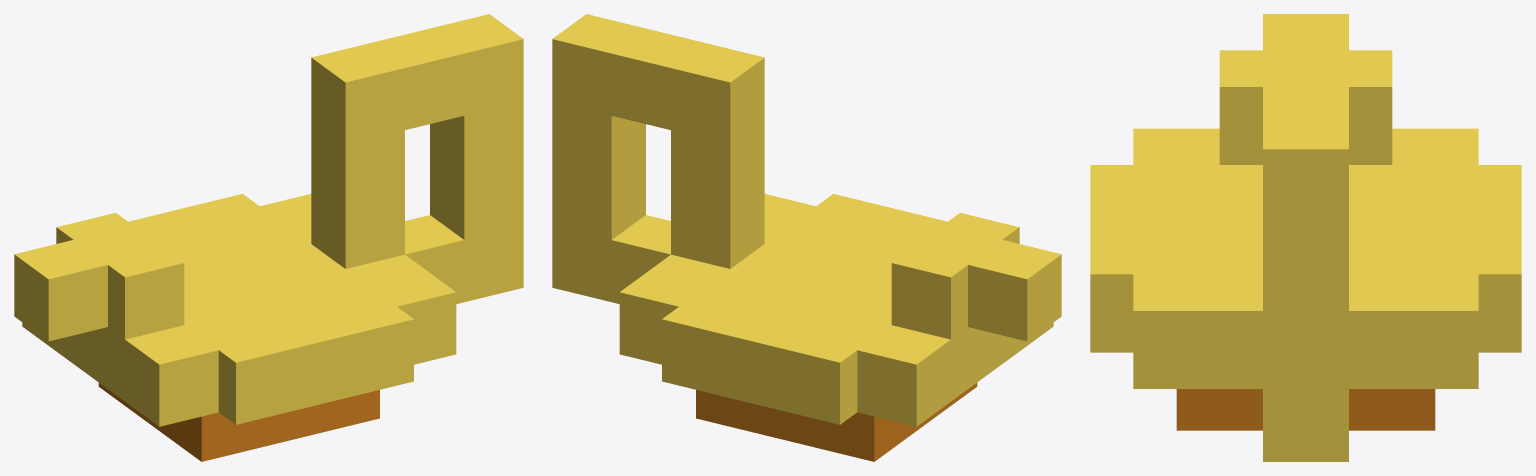
The model's file is candlestick.glb.
3 renders of one model, left to right at view 1: azimuth 30°, elevation 25°; view 2: azimuth 150°, elevation 25°; view 3: azimuth 270°, elevation 25°, orthographic. The views are drawn at different scales.
Parts seen in each view (by area): view 1: generated(Clone); view 2: generated(Clone); view 3: generated(Clone).
Boxes of the visible parts, <box> form: generated(Clone): <box>14,14,523,461</box>; generated(Clone): <box>552,14,1061,461</box>; generated(Clone): <box>1090,14,1521,461</box>.
Size of the model in its own units: 8 by 5 by 5.
1 material, 1 textured.
